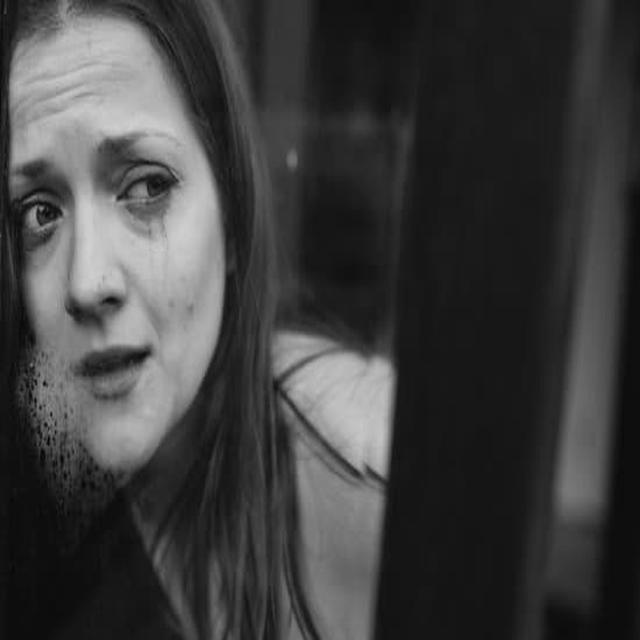Sadness: (6, 24, 222, 470)
